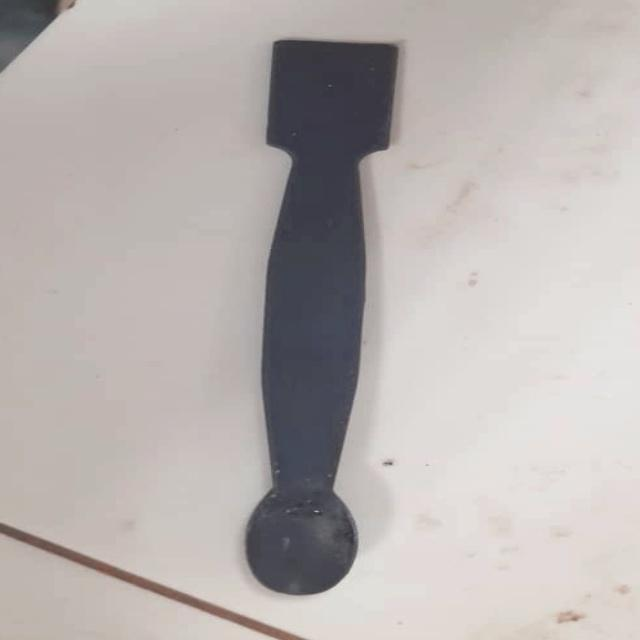Spatula: (239, 32, 410, 600)
